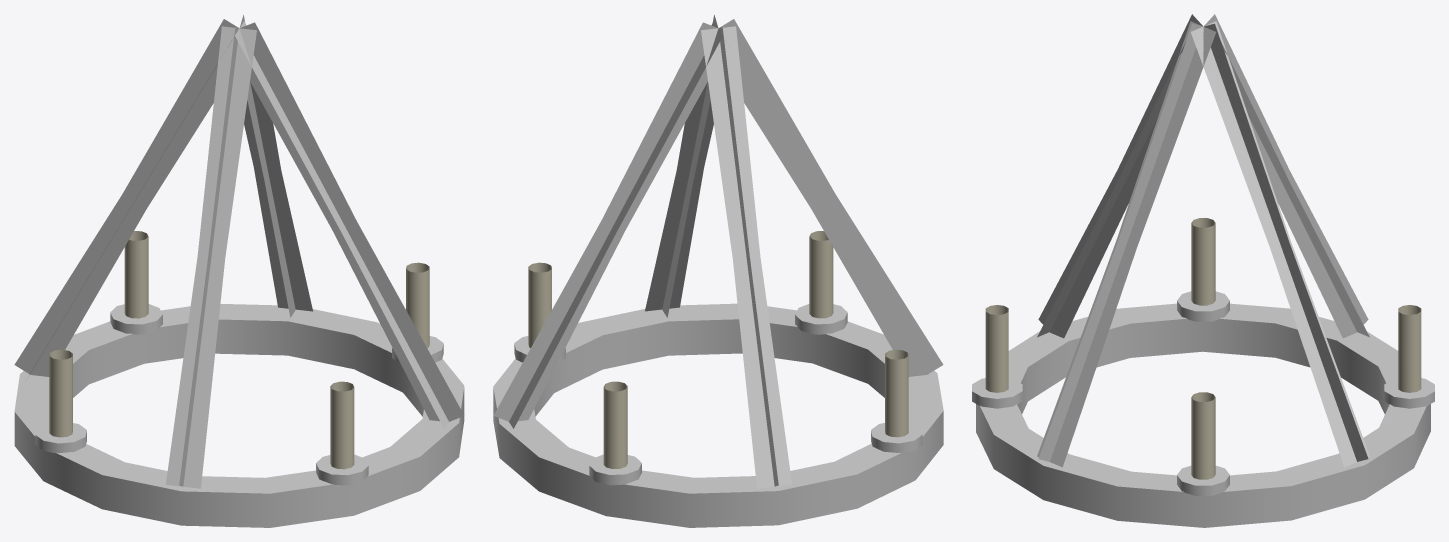
The model's file is E03_light_ceiling.fbx.
3 renders of one model, left to right at view 1: azimuth 30°, elevation 25°; view 2: azimuth 150°, elevation 25°; view 3: azimuth 270°, elevation 25°, orthographic.
Parts seen in each view (by area): view 1: E03_light_ceiling_1, chains; view 2: E03_light_ceiling_1, chains; view 3: E03_light_ceiling_1, chains.
Part boxes in pixels (x1,y1,x2,y2): E03_light_ceiling_1: (14,231,464,527); chains: (14,15,464,488); E03_light_ceiling_1: (493,231,943,527); chains: (493,15,943,488); E03_light_ceiling_1: (972,218,1434,527); chains: (1037,14,1369,467).
Bounding box in the file's own units: 76.19 × 75.01 × 76.19.
